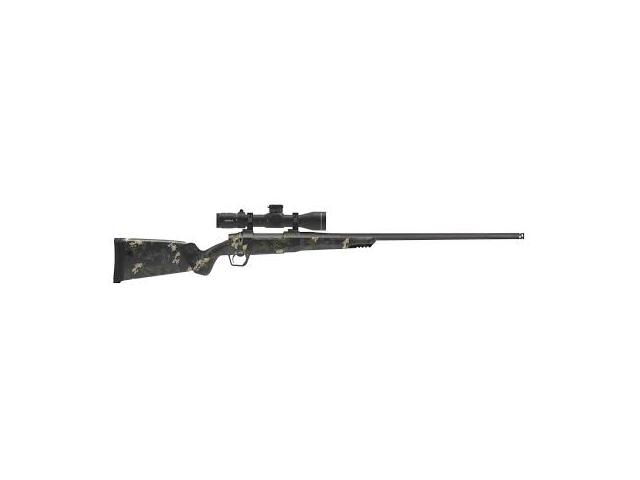rifle: (111, 205, 529, 292)
